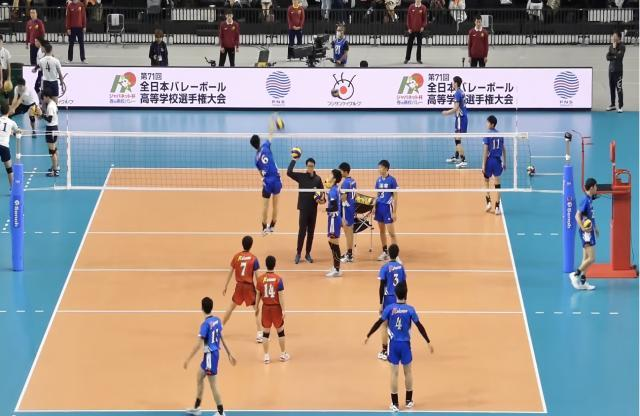spike: (246, 108, 290, 238)
